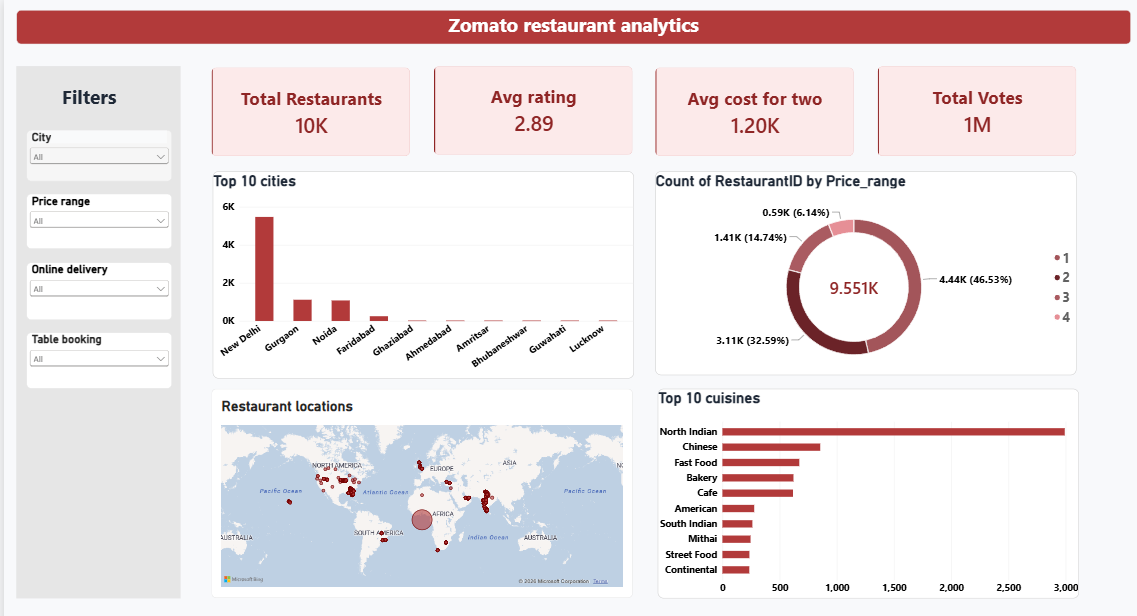

The dashboard page shown, as its layout file describes it:
{"tool":"powerbi","page":{"name":"Zomato restaurant analytics.","canvas":[1920,1080],"ordinal":0},"visuals":[{"type":"shape","box":[20.6,111.1,275.8,895.4],"z":0},{"type":"textbox","box":[20.6,16.5,1875.1,57.6],"z":1000},{"type":"textbox","box":[80.3,140,146.1,78.2],"z":2000},{"type":"slicer","fields":{"Values":["Sheet1.City"]},"box":[37,218.2,244.9,86.4],"z":3000},{"type":"slicer","fields":{"Values":["Sheet1.Price_range"]},"box":[37,325.2,244.9,92.6],"z":4000},{"type":"slicer","fields":{"Values":["Sheet1.Has_Online_delivery"]},"box":[37,442.5,244.9,96.7],"z":5000},{"type":"slicer","fields":{"Values":["Sheet1.Has_Table_booking"]},"box":[37,559.9,244.9,94.7],"z":6000},{"type":"cardVisual","fields":{"Data":["Sheet1.Total Restaurants"]},"box":[349.2,113.6,334.4,149.3],"z":7000},{"type":"cardVisual","fields":{"Data":["Sheet1.Avg Rating"]},"box":[722.9,111.5,334.4,149.3],"z":8000},{"type":"cardVisual","fields":{"Data":["Sheet1.Avg Cost"]},"box":[1096.6,113.6,334.4,149.3],"z":9000},{"type":"cardVisual","fields":{"Data":["Sheet1.Total Votes"]},"box":[1470.3,111.5,334.4,151.4],"z":10000},{"type":"clusteredColumnChart","title":"Top 10 cities","fields":{"Category":["Sheet1.City"],"Y":["CountNonNull(Sheet1.RestaurantID)"]},"box":[350.5,287.9,708.9,349.2],"z":11000},{"type":"donutChart","fields":{"Category":["Sheet1.Price_range"],"Y":["CountNonNull(Sheet1.RestaurantID)"]},"box":[1096.7,287.9,708.9,342.9],"z":12000},{"type":"map","title":"Restaurant locations","fields":{"Size":["CountNonNull(Sheet1.RestaurantID)"],"X":["Sheet1.Longitude"],"Y":["Sheet1.Latitude"]},"box":[349,654,709,352],"z":13000},{"type":"clusteredBarChart","title":"Top 10 cuisines","fields":{"Category":["Sheet1.Cuisines 1"],"Y":["CountNonNull(Sheet1.RestaurantID)"]},"box":[1099.2,653.5,708.6,353.1],"z":14000}]}

Visuals, with their boxes on the page's 1920x1080 design canvas (x1, y1, x2, y2). These are canvas units, not pixel positions in the 1137x616 screenshot, which may show the page scaled, cropped or inside an application window:
shape: region(21, 111, 296, 1006)
textbox: region(21, 16, 1896, 74)
textbox: region(80, 140, 226, 218)
slicer - Sheet1.City: region(37, 218, 282, 305)
slicer - Sheet1.Price_range: region(37, 325, 282, 418)
slicer - Sheet1.Has_Online_delivery: region(37, 442, 282, 539)
slicer - Sheet1.Has_Table_booking: region(37, 560, 282, 655)
cardVisual - Sheet1.Total Restaurants: region(349, 114, 684, 263)
cardVisual - Sheet1.Avg Rating: region(723, 112, 1057, 261)
cardVisual - Sheet1.Avg Cost: region(1097, 114, 1431, 263)
cardVisual - Sheet1.Total Votes: region(1470, 112, 1805, 263)
"Top 10 cities" clusteredColumnChart: region(350, 288, 1059, 637)
donutChart - Sheet1.Price_range x CountNonNull(Sheet1.RestaurantID): region(1097, 288, 1806, 631)
"Restaurant locations" map: region(349, 654, 1058, 1006)
"Top 10 cuisines" clusteredBarChart: region(1099, 654, 1808, 1007)
